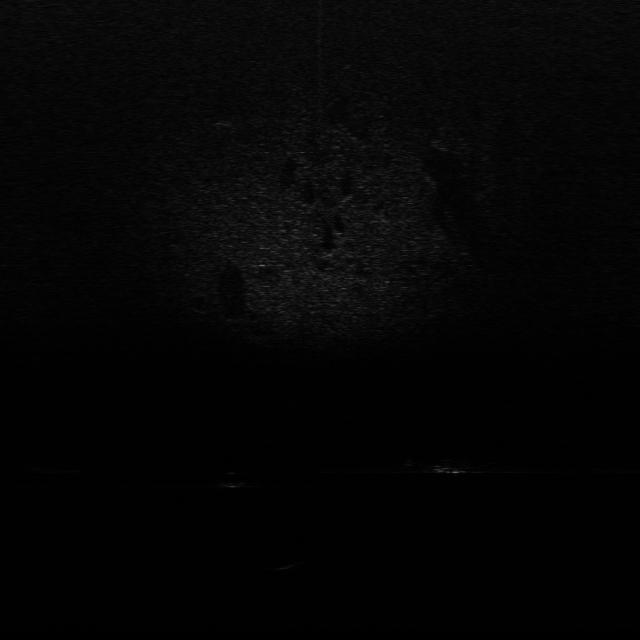ball: (214, 463, 260, 493)
circle cage: (260, 550, 316, 584)
human body: (398, 455, 492, 480)
